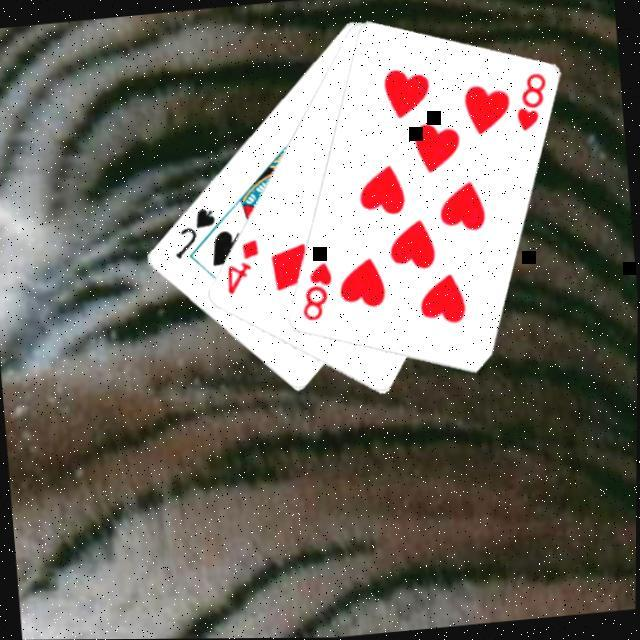4D: (221, 237, 267, 298)
8H: (297, 259, 340, 326), (511, 70, 554, 136)
JS: (168, 204, 223, 263)
